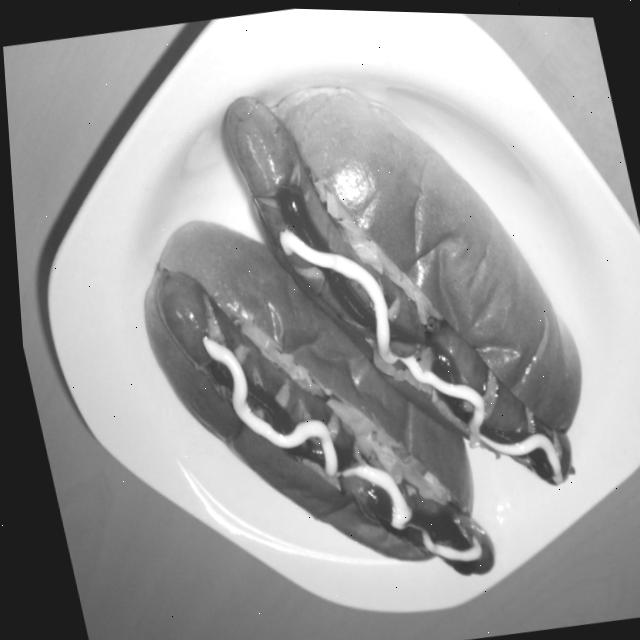汉堡快餐: (79, 32, 630, 640)
